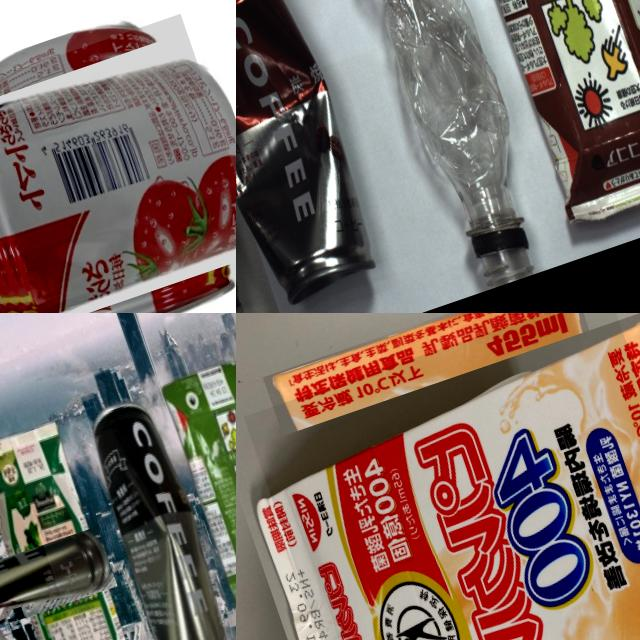Aluminium Foil: (243, 313, 640, 640), (394, 0, 640, 242), (0, 414, 157, 640), (155, 352, 236, 640)
Can: (0, 13, 236, 313), (236, 0, 389, 298), (79, 392, 236, 640), (0, 490, 82, 640)
Transparent Plastic Bottle: (263, 0, 559, 303)
